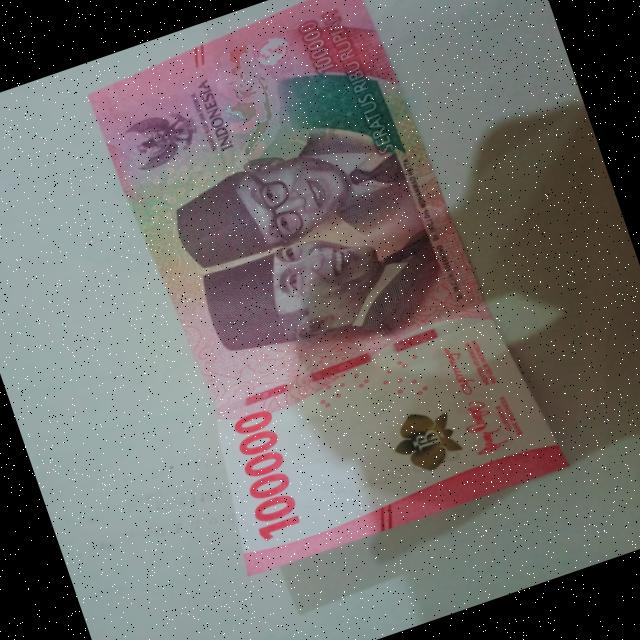100K: (59, 0, 581, 591)
